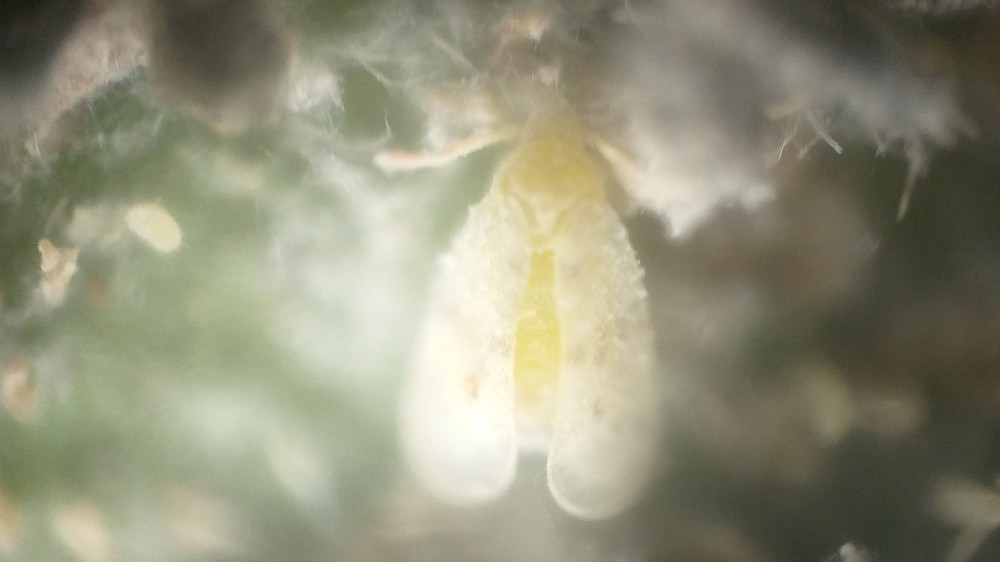Mosca Blanca: (344, 99, 736, 529)
